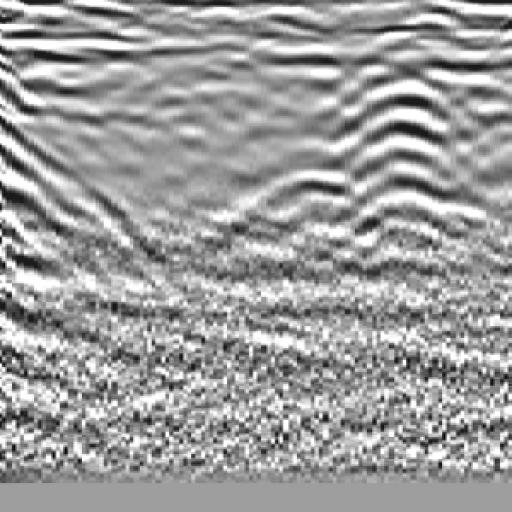metalic: (211, 31, 396, 281)
nonmetalic: (1, 47, 122, 295)
